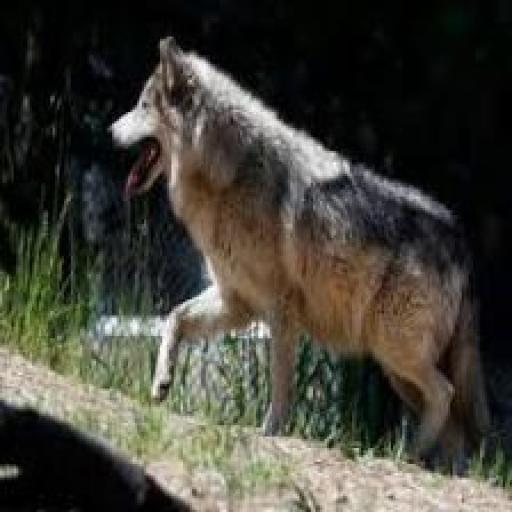wolf: (105, 32, 502, 494)
